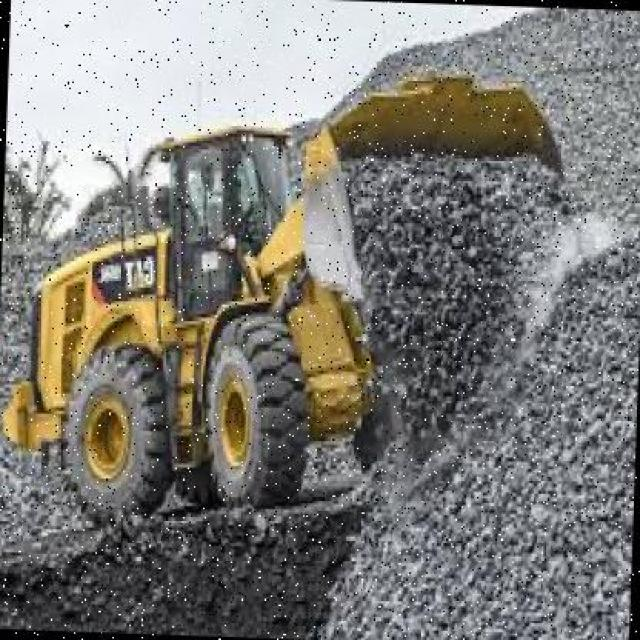buldozerpayloadergrader: (0, 84, 366, 538)
